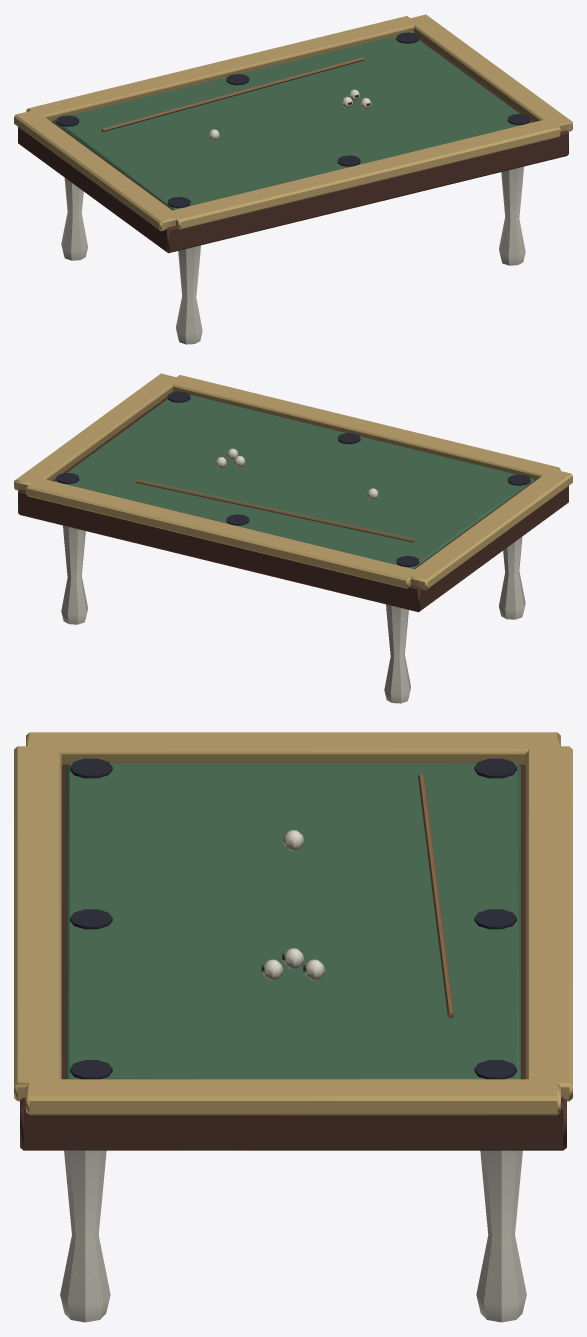
Rendered from table_billiards.glb.
The picture shows the model from 3 angles, top to bottom: view 1: azimuth 30°, elevation 25°; view 2: azimuth 150°, elevation 25°; view 3: azimuth 270°, elevation 25°; orthographic projection. The views are drawn at different scales.
Parts seen in each view (by area): view 1: table_billiards; view 2: table_billiards; view 3: table_billiards.
Part boxes in pixels (x1,y1,x2,y2): table_billiards: [14, 14, 572, 344]; table_billiards: [14, 373, 572, 703]; table_billiards: [14, 732, 572, 1322].
Bounding box in the file's own units: 2.92 × 0.999 × 1.88.
